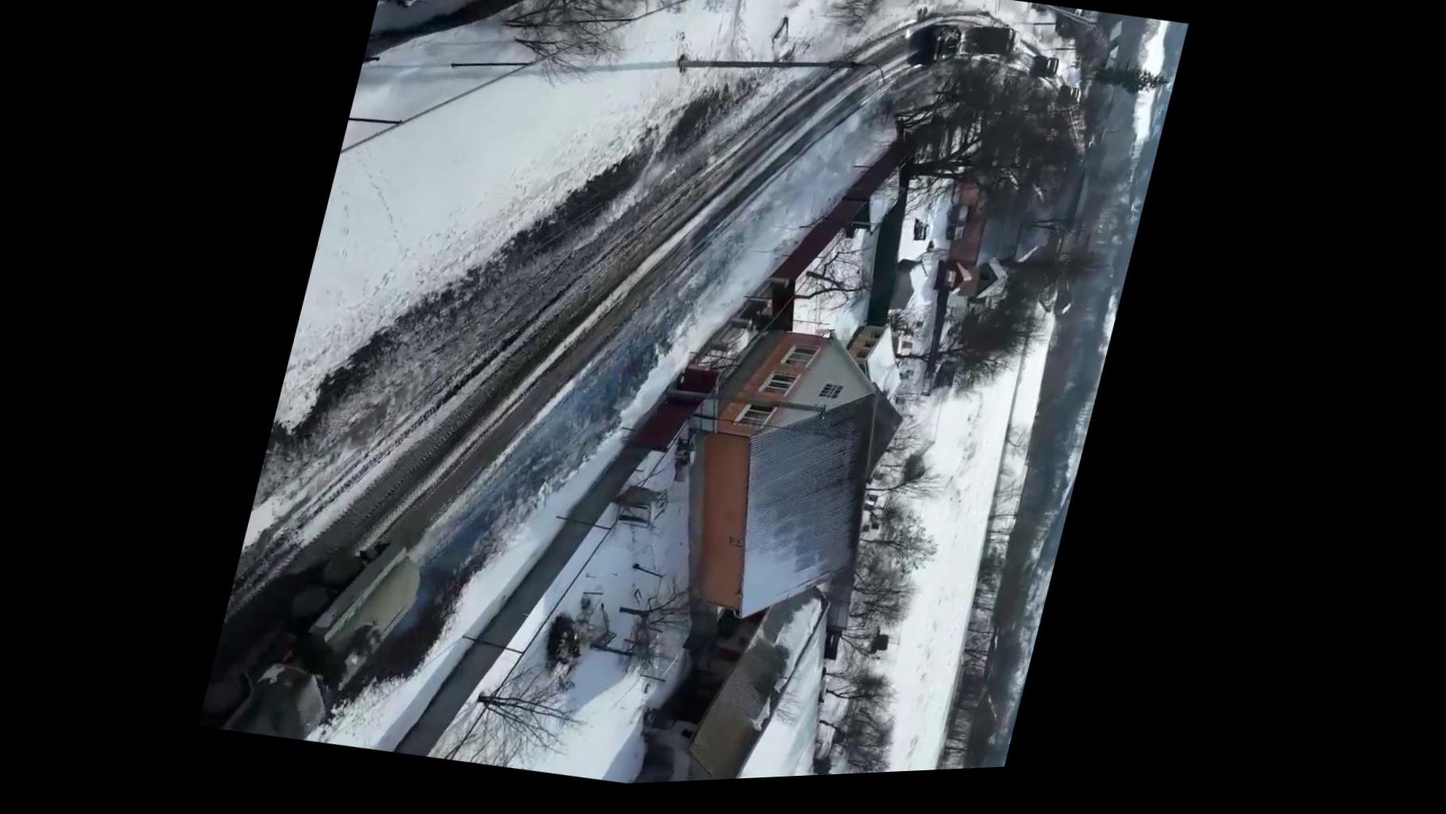tank: (912, 16, 968, 77)
truck: (194, 512, 434, 759), (975, 23, 1023, 60), (1032, 53, 1065, 81), (1060, 84, 1083, 106)
